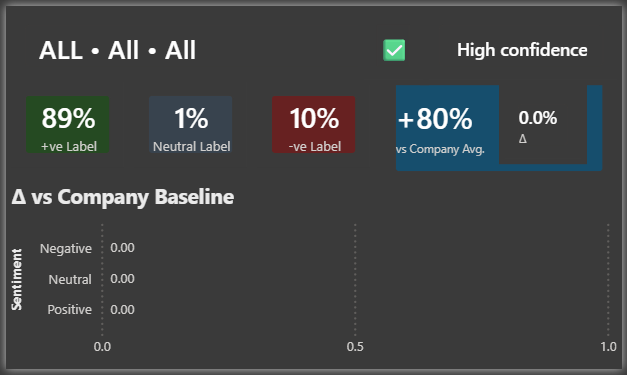

The dashboard page shown, as its layout file describes it:
{"tool":"powerbi","page":{"name":"Tooltip #2","canvas":[560,330],"ordinal":2},"visuals":[{"type":"cardVisual","fields":{"Data":["MeasuresTable.TT Header"]},"box":[0,0,400,72],"z":0},{"type":"cardVisual","fields":{"Data":["MeasuresTable.TT Confidence Icon"]},"box":[320,0,64,64],"z":1000},{"type":"cardVisual","fields":{"Data":["MeasuresTable.TT Confidence Label"]},"box":[376,0,184,72],"z":2000},{"type":"cardVisual","fields":{"Data":["MeasuresTable.TT Positive Label"]},"box":[0,64,112,88],"z":3000},{"type":"cardVisual","fields":{"Data":["MeasuresTable.TT Neutral Label"]},"box":[112,64,112,88],"z":4000},{"type":"cardVisual","fields":{"Data":["MeasuresTable.TT Negative Label"]},"box":[224,64,112,88],"z":5000},{"type":"cardVisual","fields":{"Data":["MeasuresTable.TT Net Sentiment Label"]},"box":[336,48,224,120],"z":6000},{"type":"cardVisual","fields":{"Data":["MeasuresTable.TT Net Sentiment Δ Label"]},"box":[448,72,80,72],"z":7000},{"type":"cardVisual","fields":{"Data":["MeasuresTable.TT Confidence Label"]},"box":[376,0,184,72],"z":8000},{"type":"cardVisual","fields":{"Data":["MeasuresTable.TT Confidence Icon"]},"box":[320,0,64,72],"z":9000},{"type":"clusteredBarChart","title":"Δ vs Company Baseline","fields":{"Category":["TT Sentiment.Sentiment"],"Y":["MeasuresTable.TT Sentiment Δ vs Company"]},"box":[0,160,560,168],"z":10000}]}

Visuals, with their boxes in screenshot pixels (x1, y1, x2, y2), scaled from the page's 560x330 canvas onto the 627x375 screenshot:
cardVisual - MeasuresTable.TT Header: bbox=[0, 0, 448, 82]
cardVisual - MeasuresTable.TT Confidence Icon: bbox=[358, 0, 430, 73]
cardVisual - MeasuresTable.TT Confidence Label: bbox=[421, 0, 626, 82]
cardVisual - MeasuresTable.TT Positive Label: bbox=[0, 73, 125, 173]
cardVisual - MeasuresTable.TT Neutral Label: bbox=[125, 73, 251, 173]
cardVisual - MeasuresTable.TT Negative Label: bbox=[251, 73, 376, 173]
cardVisual - MeasuresTable.TT Net Sentiment Label: bbox=[376, 55, 626, 191]
cardVisual - MeasuresTable.TT Net Sentiment Δ Label: bbox=[502, 82, 591, 164]
cardVisual - MeasuresTable.TT Confidence Label: bbox=[421, 0, 626, 82]
cardVisual - MeasuresTable.TT Confidence Icon: bbox=[358, 0, 430, 82]
"Δ vs Company Baseline" clusteredBarChart: bbox=[0, 182, 626, 373]
